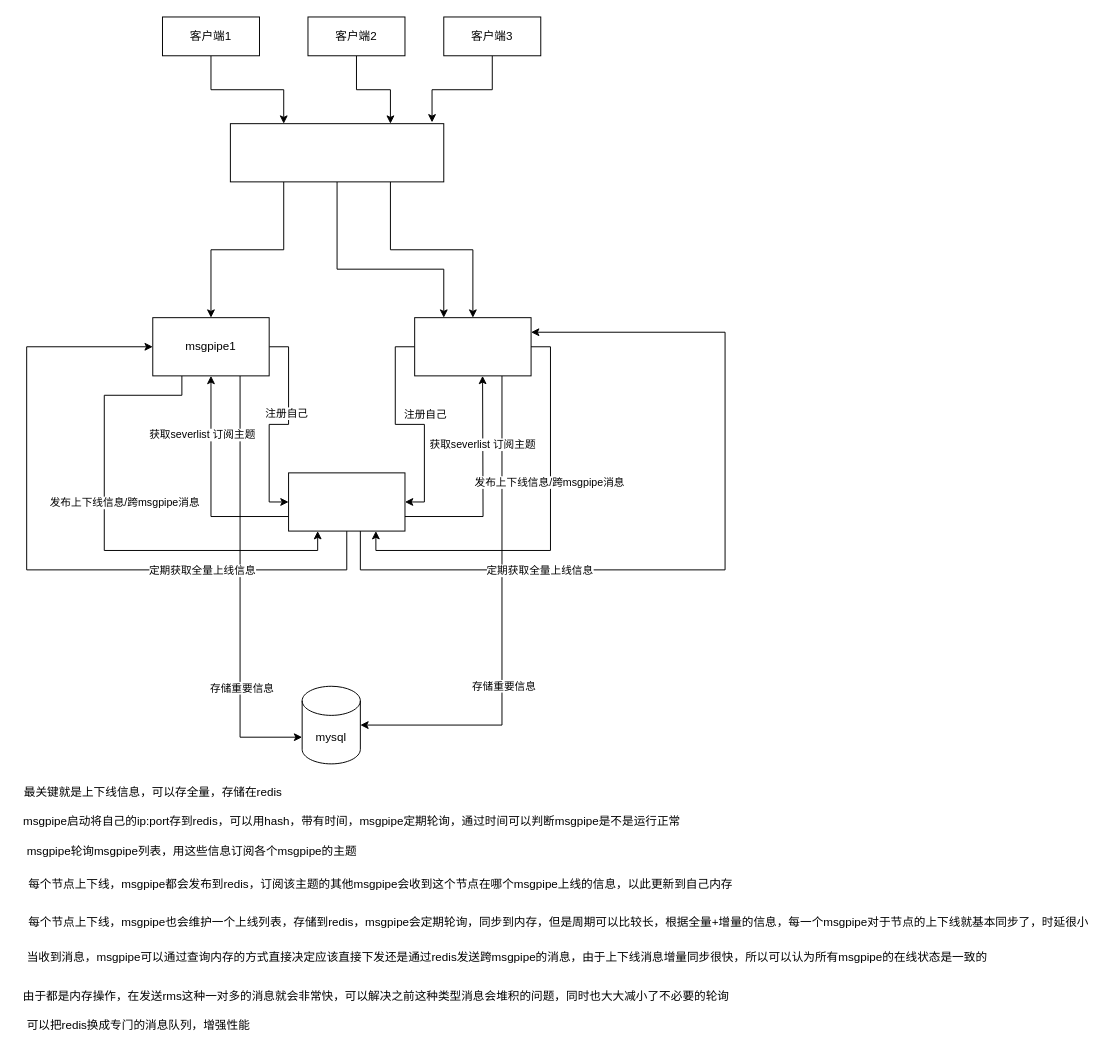
This 1110x1052 diagram has some shape labels left out. The centre of each missing label's shape, as x and y in pixels:
msgpipe2: pixel 472 346
redis: pixel 346 501
负载均衡器: pixel 336 152
